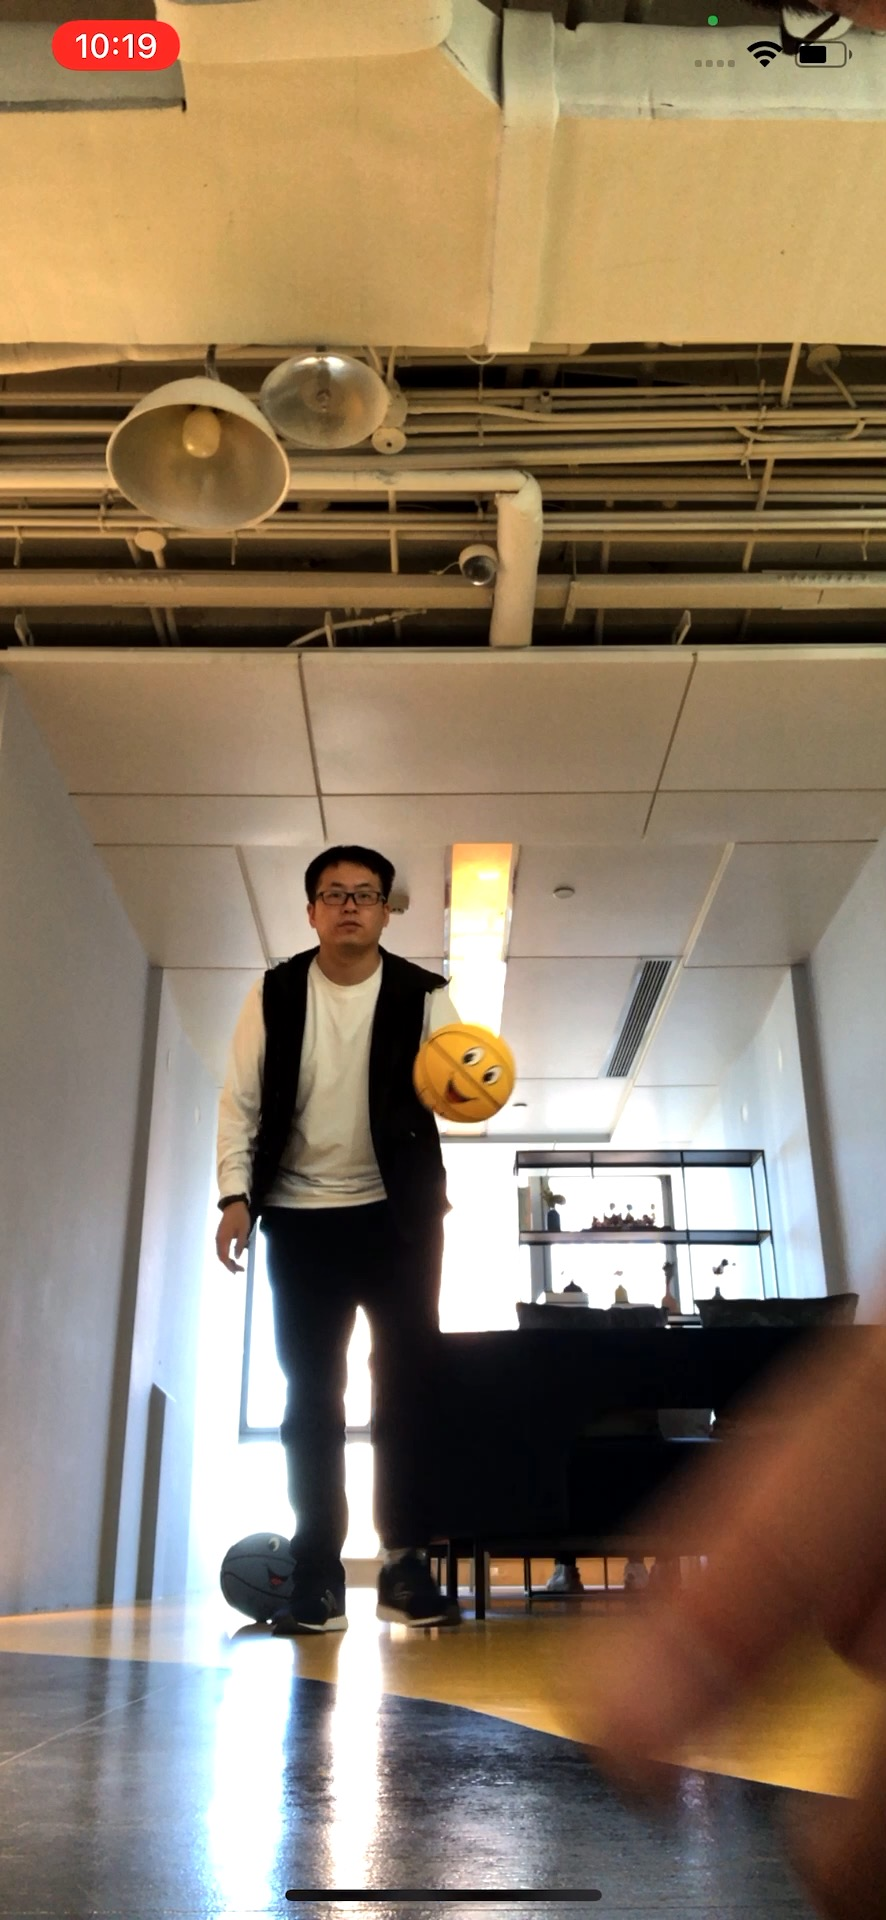ball: (414, 1021, 521, 1123), (218, 1533, 299, 1619)
